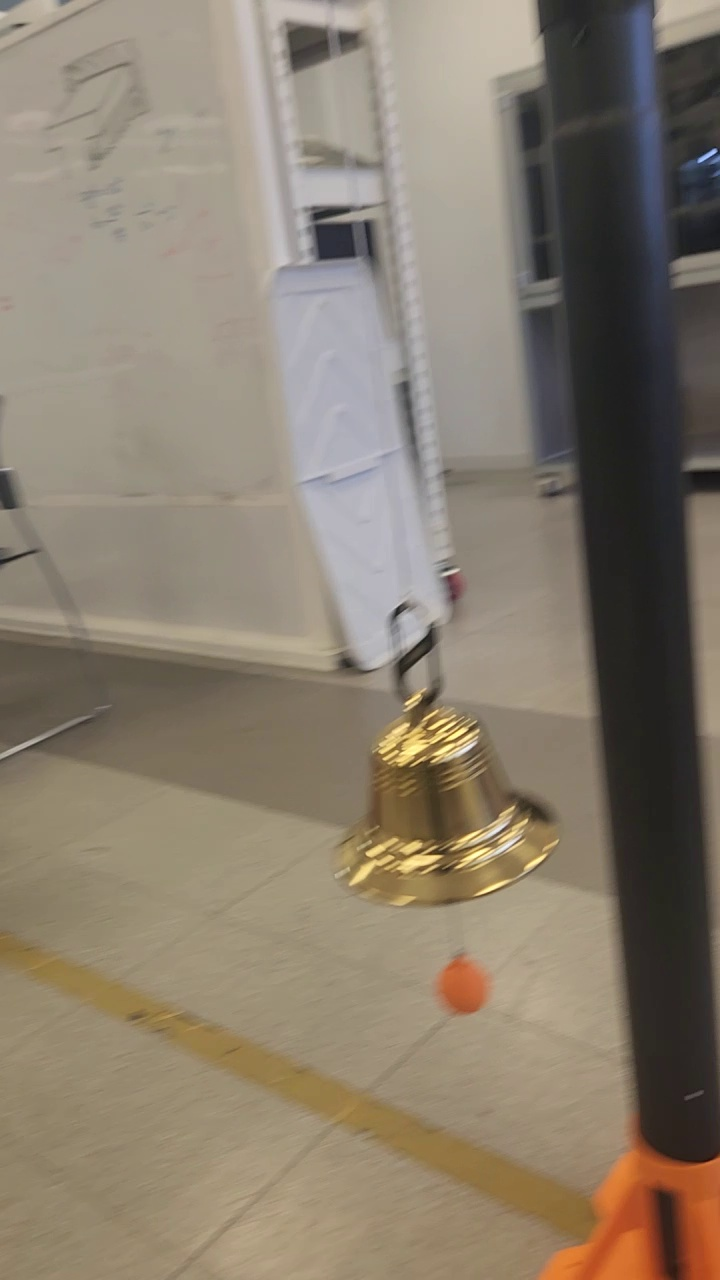bell: (330, 692, 562, 913)
pole: (538, 1, 718, 1129)
